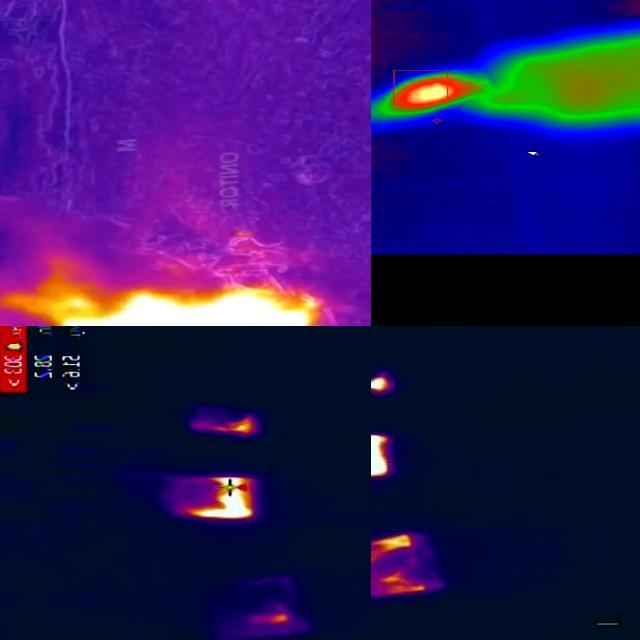fire: (1, 258, 324, 327), (372, 76, 485, 118), (182, 476, 260, 523), (187, 415, 258, 439), (372, 534, 416, 555), (372, 434, 392, 479), (372, 375, 389, 393)
